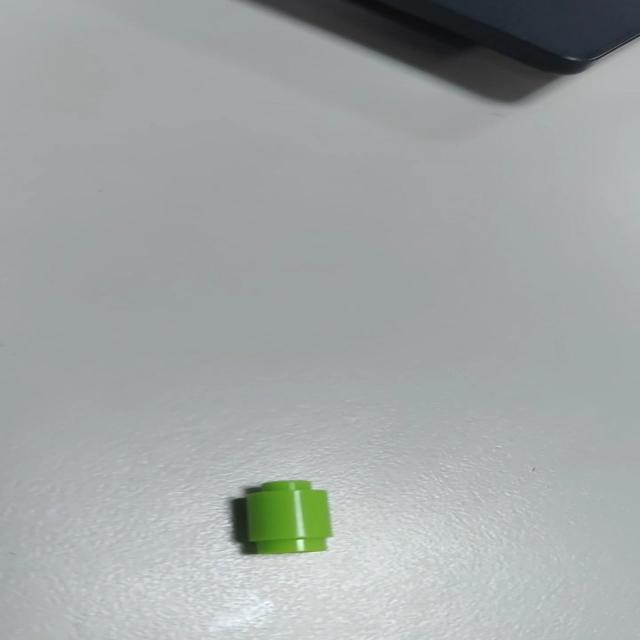S1x1x1: (236, 478, 342, 558)
